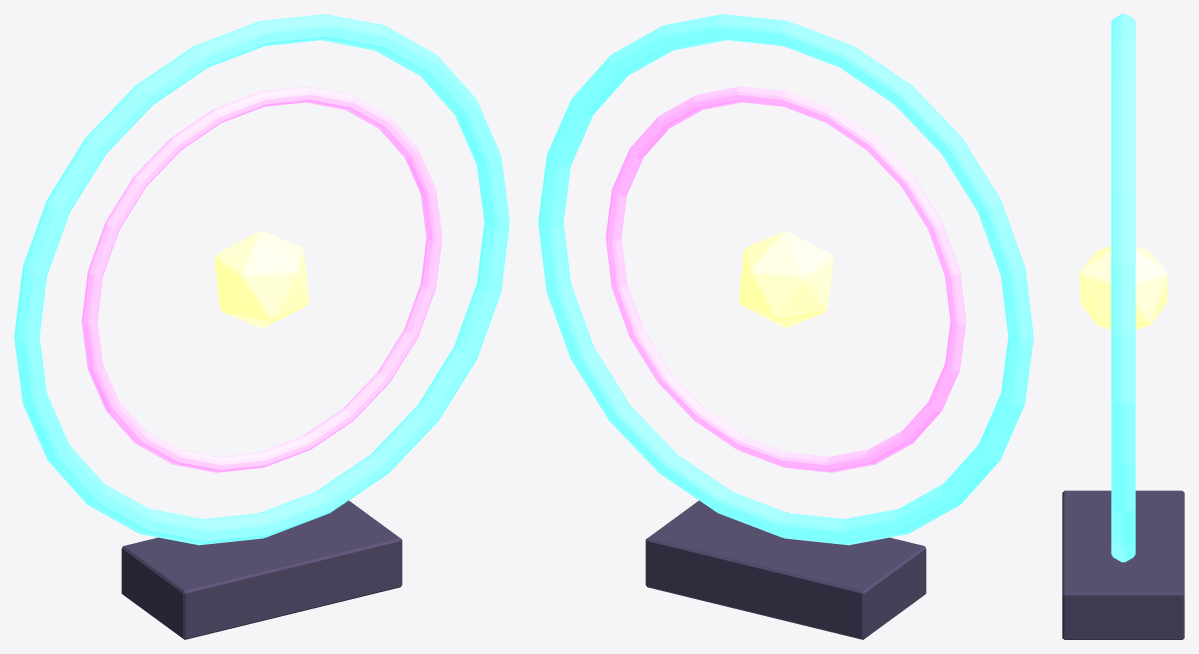
3 renders of one model, left to right at view 1: azimuth 30°, elevation 25°; view 2: azimuth 150°, elevation 25°; view 3: azimuth 270°, elevation 25°, orthographic. The views are drawn at different scales.
Parts seen in each view (by area): view 1: HoloRing; view 2: HoloRing; view 3: HoloRing.
Boxes of the visible parts, x1=… form: HoloRing: x1=14, y1=14, x2=509, y2=639; HoloRing: x1=538, y1=14, x2=1033, y2=639; HoloRing: x1=1062, y1=14, x2=1184, y2=639.
Size of the model in its own units: 3.15 by 3.47 by 0.7.
